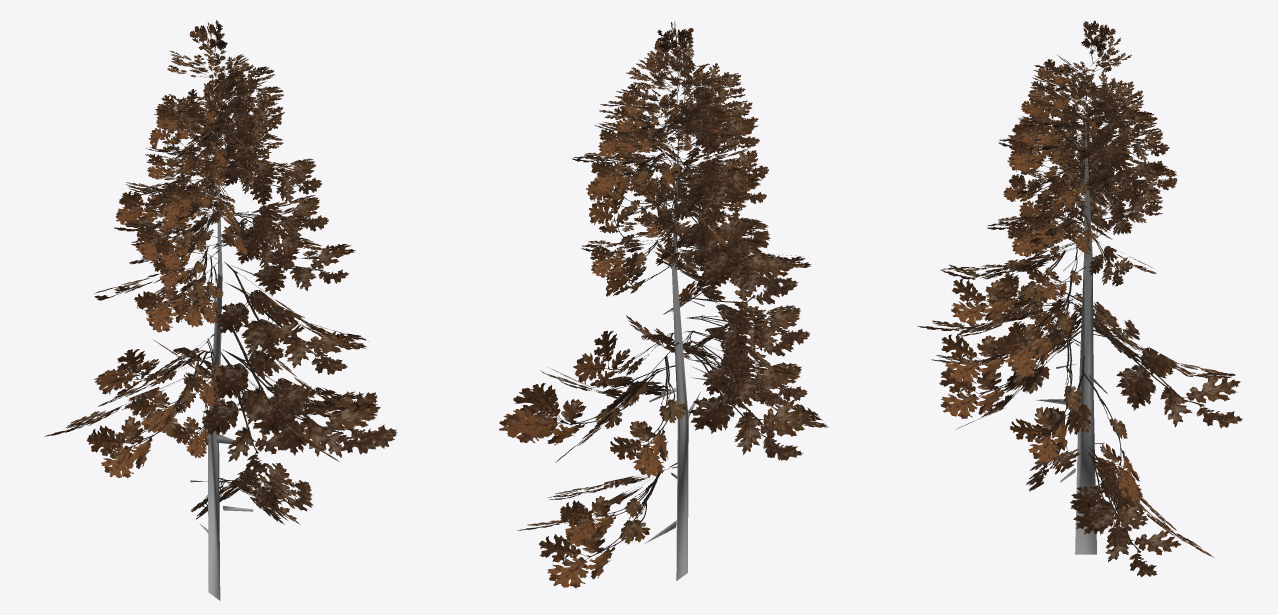
File: spruce4 lod1.FBX
3 renders of one model, left to right at view 1: azimuth 30°, elevation 25°; view 2: azimuth 150°, elevation 25°; view 3: azimuth 270°, elevation 25°, orthographic. The views are drawn at different scales.
Visible parts, largest first — view 1: spruce4_LOD1; view 2: spruce4_LOD1; view 3: spruce4_LOD1.
Boxes of the visible parts, <box> form: spruce4_LOD1: <box>44,20,397,600</box>; spruce4_LOD1: <box>499,21,828,588</box>; spruce4_LOD1: <box>917,20,1242,577</box>.
Bounding box in the file's own units: 72973 × 107781 × 67719.
